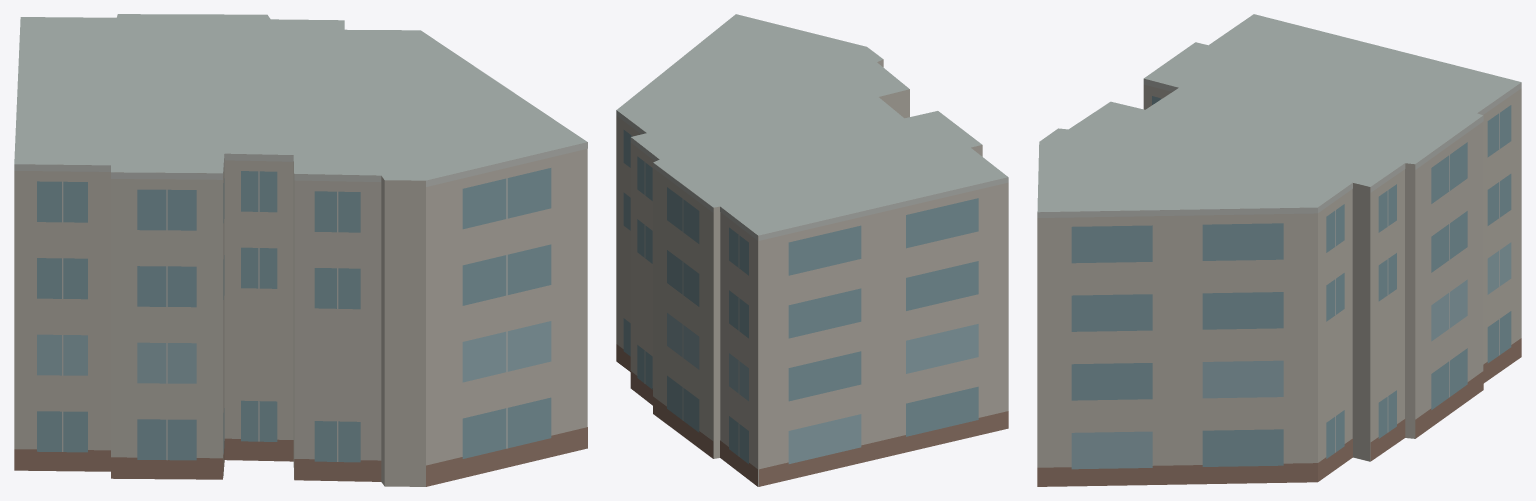
The model's file is survey-upis-32954627.glb.
The picture shows the model from 3 angles, left to right: view 1: azimuth 30°, elevation 25°; view 2: azimuth 150°, elevation 25°; view 3: azimuth 270°, elevation 25°; orthographic projection. The views are drawn at different scales.
Visible parts, largest first — view 1: survey-upis-32954627.tmp; view 2: survey-upis-32954627.tmp; view 3: survey-upis-32954627.tmp.
Part boxes in pixels (left/top/right/bottom): survey-upis-32954627.tmp: left=14, top=14, right=587, bottom=486; survey-upis-32954627.tmp: left=616, top=14, right=1008, bottom=486; survey-upis-32954627.tmp: left=1037, top=14, right=1521, bottom=486.
Bounding box in the file's own units: 17.49 × 11.3 × 18.06.
